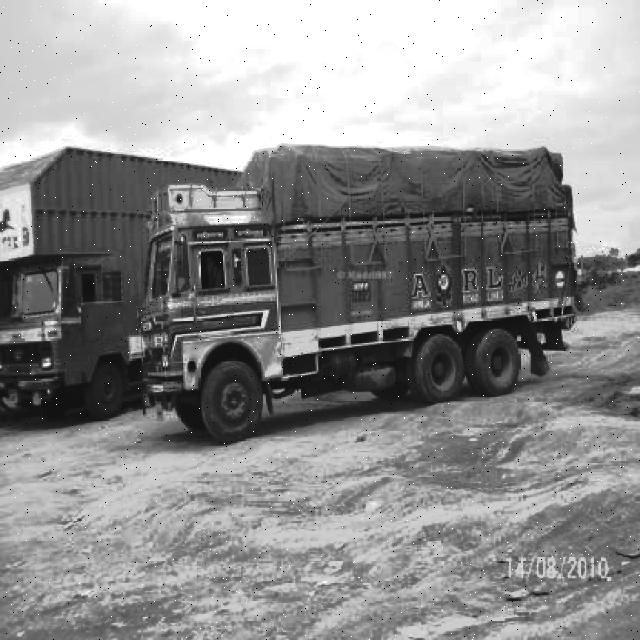HCV: (146, 177, 559, 381)
